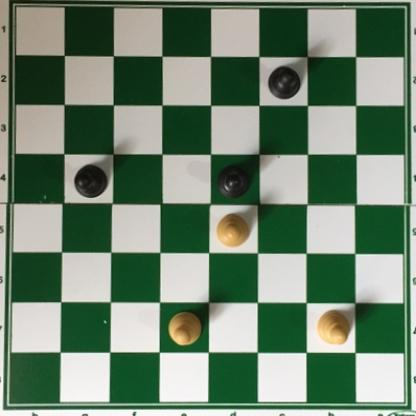black-pawn: (73, 161, 109, 200), (216, 163, 253, 199), (267, 63, 302, 101)
white-pawn: (216, 213, 252, 249), (318, 310, 353, 346), (168, 312, 203, 346)
